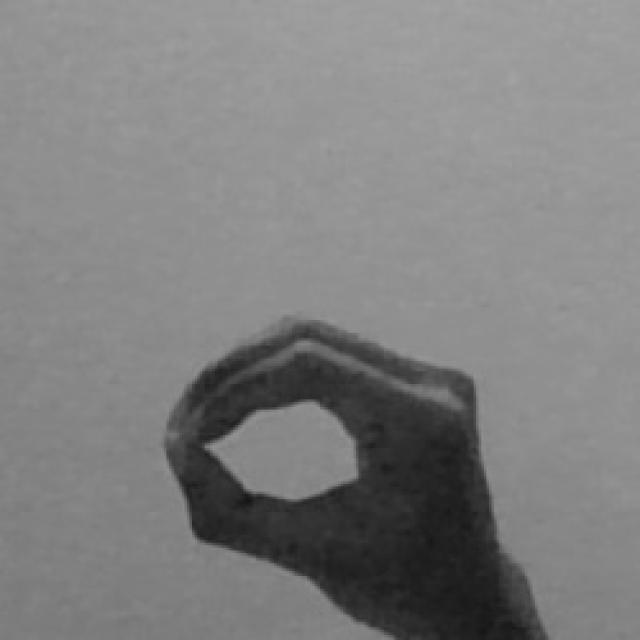O: (158, 307, 556, 640)
